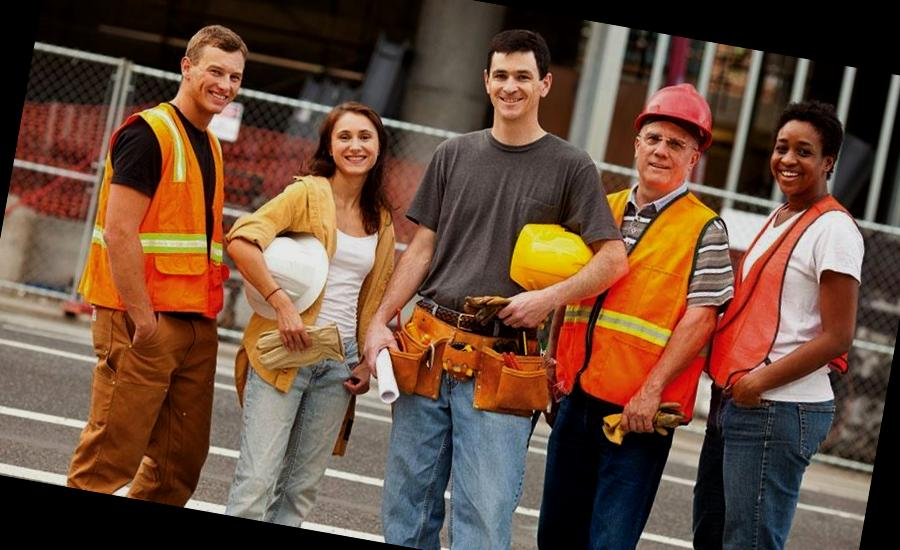helmet: (628, 73, 722, 152)
no_vest: (413, 114, 588, 361), (264, 166, 404, 338)
person: (345, 7, 644, 550), (37, 7, 305, 514), (528, 73, 764, 550), (186, 85, 420, 536), (677, 86, 900, 550)
